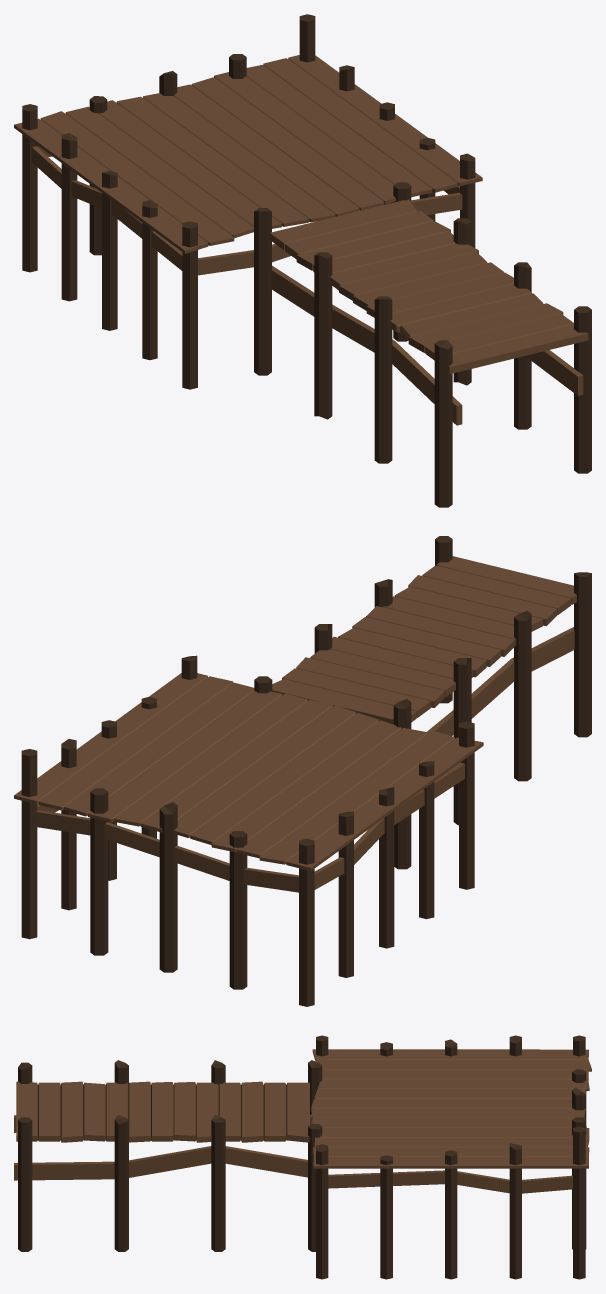
Rendered from fishery_base_mat.fbx.
3 renders of one model, top to bottom at view 1: azimuth 30°, elevation 25°; view 2: azimuth 150°, elevation 25°; view 3: azimuth 270°, elevation 25°, orthographic. The views are drawn at different scales.
Parts seen in each view (by area): view 1: fishery_base_mat; view 2: fishery_base_mat; view 3: fishery_base_mat.
Boxes of the visible parts, x1,y1,x2,y2 form: fishery_base_mat: (14,14,591,507); fishery_base_mat: (14,536,591,1006); fishery_base_mat: (14,1035,591,1279).
Bounding box in the file's own units: 326 × 191 × 682.
